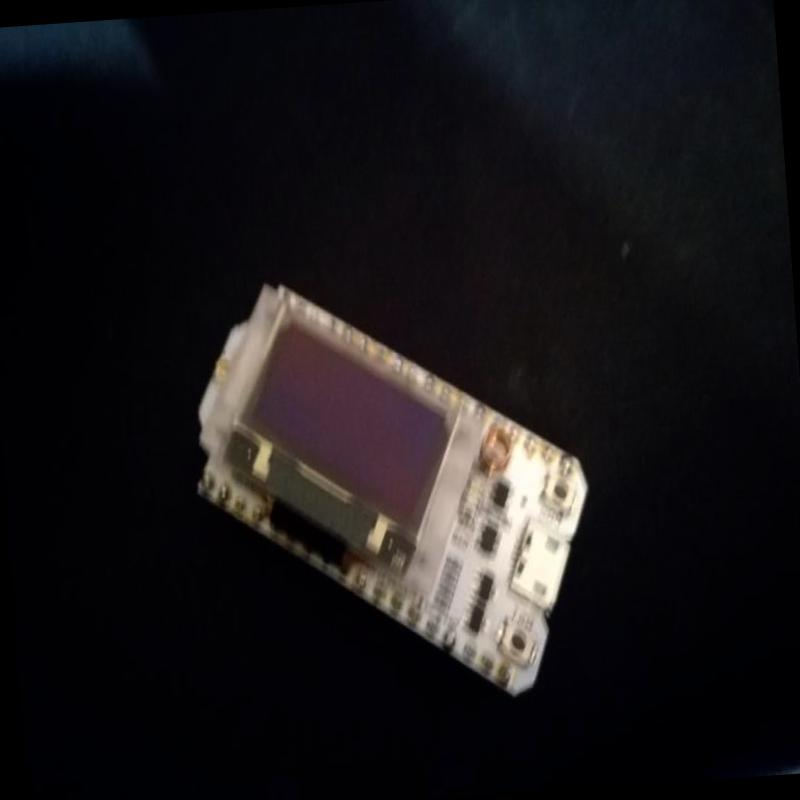Heltec_ESP32_Lora: (170, 247, 614, 727)
